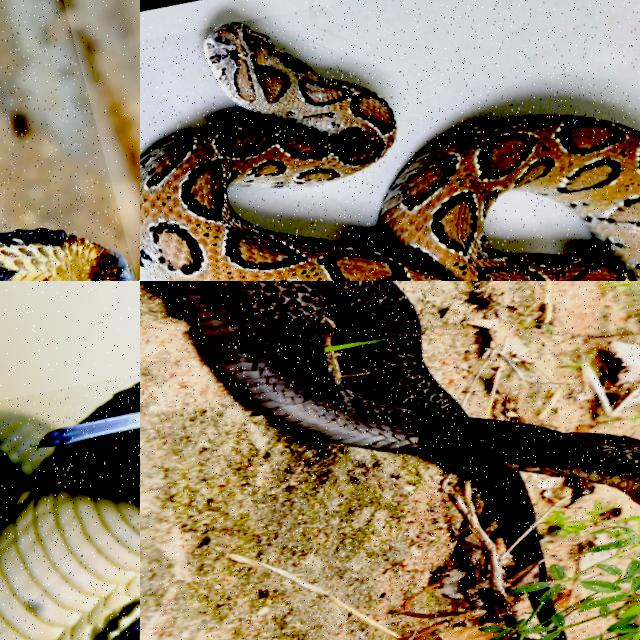Daboia siamensis: (140, 24, 639, 280)
Naja siamensis: (160, 281, 639, 566)
Ophiophagus hannah: (0, 383, 139, 639), (0, 228, 135, 280)
